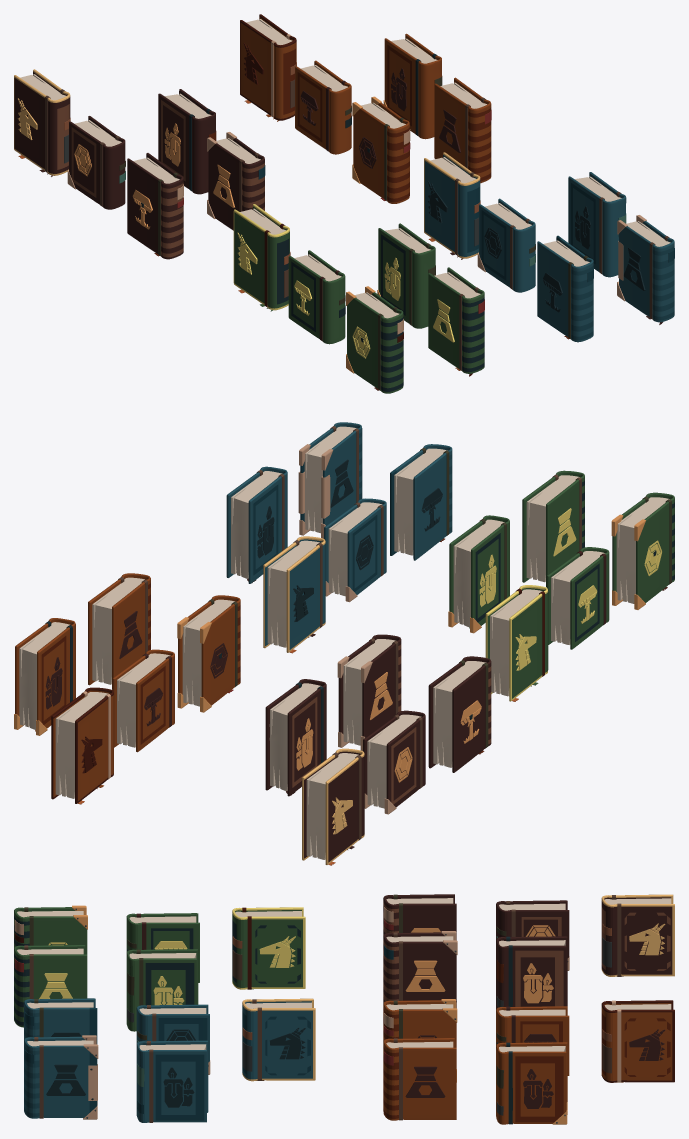
Rendered from MOD_Books.fbx.
The picture shows the model from 3 angles, top to bottom: view 1: azimuth 30°, elevation 25°; view 2: azimuth 150°, elevation 25°; view 3: azimuth 270°, elevation 25°; orthographic projection. The views are drawn at different scales.
Visible parts, largest first — view 1: MOD_Book_Orange_1, MOD_Book_Green_1, MOD_Book_Blue_0, MOD_Book_Green_0, MOD_Book_Red_1, MOD_Book_Blue_1, MOD_Book_Green_4, MOD_Book_Orange_4, MOD_Book_Blue_4, MOD_Book_Red_4, MOD_Book_Orange_0, MOD_Book_Orange_2 (+8 smaller); view 2: MOD_Book_Orange_1, MOD_Book_Red_1, MOD_Book_Green_1, MOD_Book_Orange_4, MOD_Book_Blue_4, MOD_Book_Red_4, MOD_Book_Blue_1, MOD_Book_Green_4, MOD_Book_Blue_2, MOD_Book_Red_2, MOD_Book_Blue_0, MOD_Book_Red_0 (+8 smaller); view 3: MOD_Book_Orange_4, MOD_Book_Blue_0, MOD_Book_Red_4, MOD_Book_Blue_4, MOD_Book_Orange_0, MOD_Book_Green_4, MOD_Book_Blue_2, MOD_Book_Orange_2, MOD_Book_Red_0, MOD_Book_Red_2, MOD_Book_Green_2, MOD_Book_Green_0 (+8 smaller).
Boxes of the visible parts, x1,y1,x2,y2 form: MOD_Book_Orange_1: [352, 96, 410, 203]; MOD_Book_Green_1: [346, 286, 403, 393]; MOD_Book_Blue_0: [617, 215, 674, 324]; MOD_Book_Green_0: [428, 267, 484, 376]; MOD_Book_Red_1: [127, 153, 183, 259]; MOD_Book_Blue_1: [537, 235, 593, 342]; MOD_Book_Green_4: [233, 204, 290, 311]; MOD_Book_Orange_4: [240, 14, 296, 121]; MOD_Book_Blue_4: [424, 152, 480, 259]; MOD_Book_Red_4: [14, 69, 70, 176]; MOD_Book_Orange_0: [434, 77, 491, 183]; MOD_Book_Orange_2: [383, 33, 442, 139]; MOD_Book_Orange_1: [177, 595, 240, 712]; MOD_Book_Red_1: [428, 656, 491, 772]; MOD_Book_Green_1: [611, 492, 674, 609]; MOD_Book_Orange_4: [51, 687, 113, 804]; MOD_Book_Blue_4: [263, 536, 325, 653]; MOD_Book_Red_4: [302, 748, 364, 865]; MOD_Book_Blue_1: [390, 444, 452, 560]; MOD_Book_Green_4: [485, 585, 548, 701]; MOD_Book_Blue_2: [226, 466, 287, 583]; MOD_Book_Red_2: [265, 679, 326, 796]; MOD_Book_Blue_0: [298, 422, 362, 538]; MOD_Book_Red_0: [337, 634, 401, 750]; MOD_Book_Orange_4: [601, 1000, 674, 1082]; MOD_Book_Blue_0: [24, 1035, 98, 1119]; MOD_Book_Red_4: [601, 894, 674, 976]; MOD_Book_Blue_4: [242, 998, 315, 1081]; MOD_Book_Orange_0: [383, 1038, 456, 1120]; MOD_Book_Green_4: [232, 907, 305, 989]; MOD_Book_Blue_2: [136, 1040, 208, 1122]; MOD_Book_Orange_2: [496, 1042, 567, 1124]; MOD_Book_Red_0: [383, 931, 457, 1008]; MOD_Book_Red_2: [496, 936, 567, 1008]; MOD_Book_Green_2: [126, 949, 198, 1031]; MOD_Book_Green_0: [14, 945, 87, 1027].
Size of the model in its own units: 129 by 30.12 by 227.
